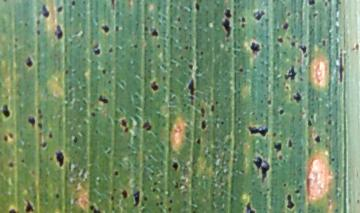tarspot: (252, 152, 272, 183), (282, 63, 298, 84), (247, 123, 269, 138), (219, 19, 234, 40), (186, 77, 197, 105), (53, 148, 66, 169), (337, 47, 345, 81), (248, 39, 262, 58), (298, 41, 308, 65), (283, 193, 297, 210), (117, 116, 130, 134), (23, 53, 35, 71), (1, 103, 13, 121), (52, 23, 64, 41), (243, 198, 257, 213), (22, 197, 35, 213), (250, 8, 266, 21), (291, 88, 303, 105), (140, 118, 153, 133), (132, 188, 141, 209), (40, 2, 51, 19), (169, 159, 182, 173), (96, 93, 111, 105), (148, 80, 161, 93), (90, 45, 102, 58), (148, 26, 161, 38), (222, 7, 235, 19), (26, 114, 37, 128), (87, 202, 101, 213), (100, 23, 112, 35), (272, 141, 284, 153), (119, 188, 130, 201), (312, 132, 323, 145), (275, 33, 285, 46), (304, 116, 314, 129), (286, 135, 294, 151), (198, 119, 209, 130), (191, 1, 202, 12), (264, 96, 275, 107), (52, 189, 62, 201), (54, 5, 66, 15), (154, 41, 164, 52), (71, 134, 80, 146), (198, 105, 207, 117), (237, 64, 246, 76), (172, 179, 181, 191), (305, 1, 318, 9), (208, 102, 216, 115), (39, 141, 50, 150), (100, 66, 109, 77), (141, 193, 150, 204), (281, 21, 290, 32), (87, 110, 98, 119), (328, 154, 337, 165), (131, 41, 140, 52), (7, 129, 15, 141), (2, 131, 9, 144), (7, 160, 16, 170), (106, 45, 115, 55), (276, 108, 286, 117), (194, 136, 204, 145), (186, 62, 195, 72), (319, 38, 328, 48), (325, 118, 333, 129), (277, 152, 285, 163), (112, 169, 121, 178), (107, 193, 116, 202), (113, 23, 121, 33), (166, 203, 174, 213), (47, 129, 54, 140), (289, 40, 297, 49), (239, 22, 248, 30), (149, 185, 157, 194), (166, 197, 176, 204), (7, 207, 18, 213), (68, 1, 79, 7), (37, 122, 44, 131), (239, 16, 248, 23)
